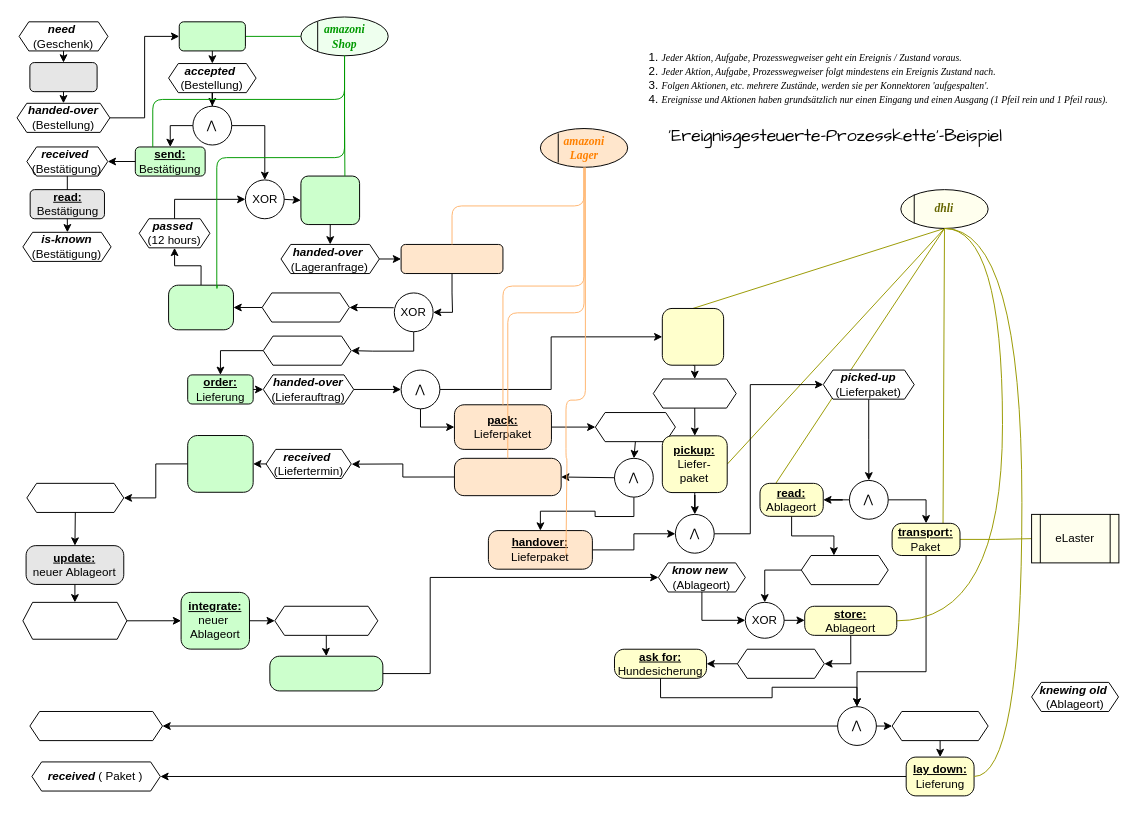
The diagram is 1136 pixels wide and 813 high, and some of its shapes have lost their labels. The shapes that lost their labels are listed below. From the top down, each one's centre as x and y in pixels, then its label:
[211,36]: adopt: Bestellung
[63,77]: insert: Bestellung
[330,200]: inquire: "Ware auf Lager?"
[451,258]: determine: "Ware auf Lager?"
[200,307]: wait: 12 Hours
[305,307]: false ("auf Lager")
[306,350]: true ("auf Lager")
[692,336]: organize: Paket- abholung
[694,393]: organized (Abholung)
[634,427]: packed (Lieferpaket)
[220,463]: mail: Liefer- termin
[507,476]: announce: Liefer termin
[75,497]: known (Liefertermin)
[844,570]: knew old (Ablageort)
[74,620]: sent (neuer Ablageort)
[326,620]: integrated (neuer Ablageort)
[326,673]: send: neuer Ablageort
[780,663]: knew final (Ablageort)
[95,726]: got (Hunde-Anlein-Bitte)
[939,726]: arrived (Ablageort)
